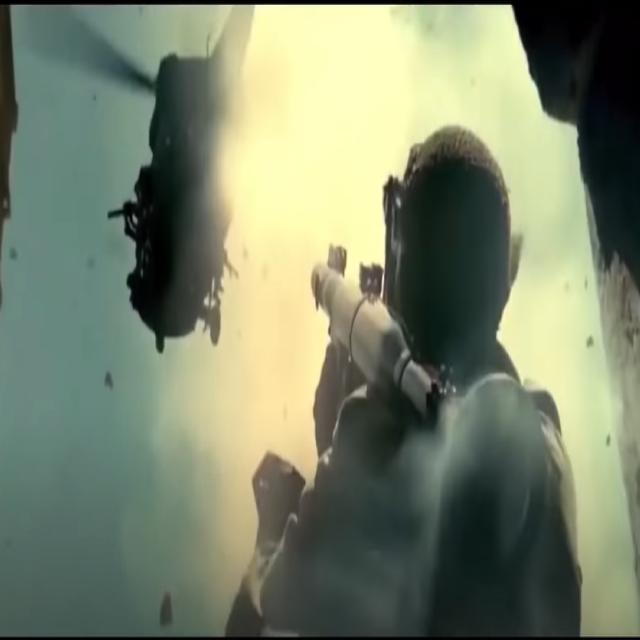bazooka: (293, 201, 467, 465)
